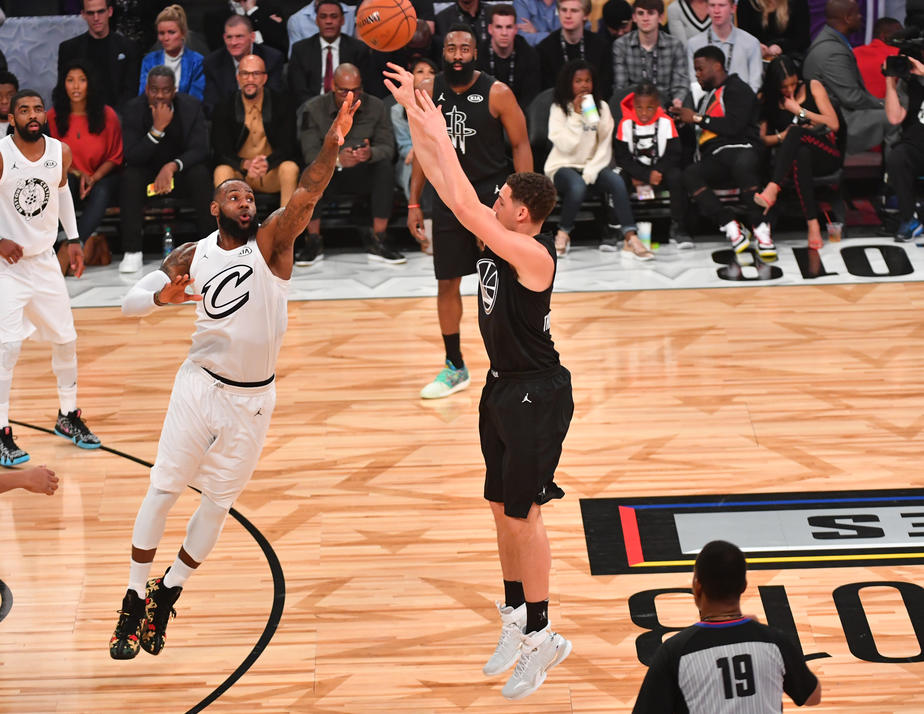ball: (353, 1, 414, 52)
player: (116, 160, 324, 644), (423, 144, 588, 709), (1, 111, 63, 441), (439, 40, 541, 184)
referee: (651, 557, 797, 714)
